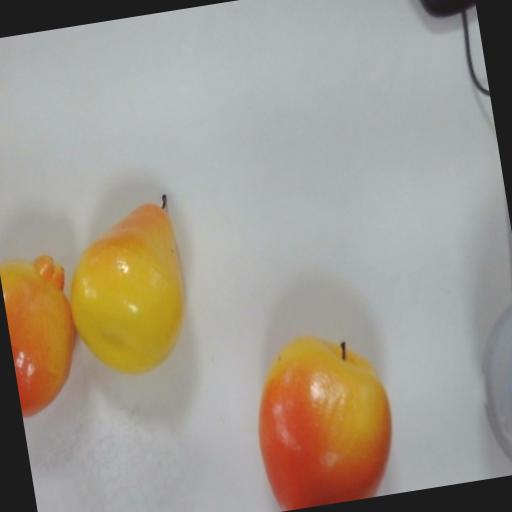Ripe: (240, 315, 405, 512), (54, 182, 204, 384), (0, 238, 89, 420)
